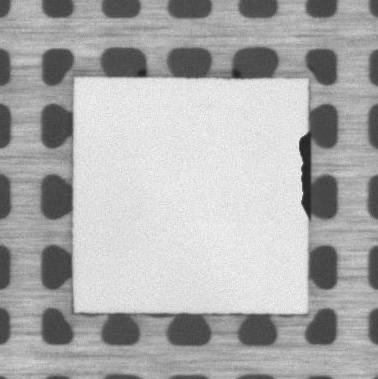DIE_BROKEN: (295, 130, 313, 218)
